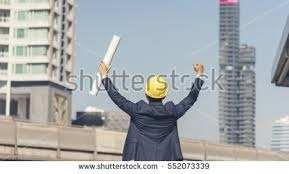helmet: (144, 76, 169, 101)
person with partial safety: (120, 71, 189, 161)
